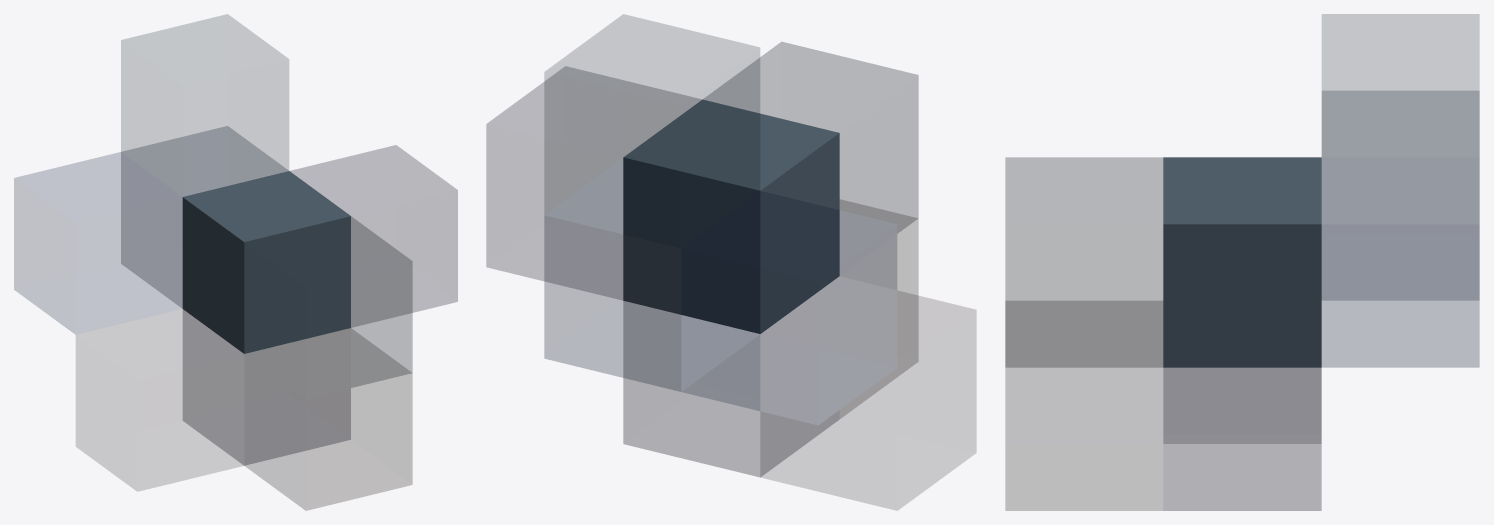
The model's file is iter_15.obj.
The picture shows the model from 3 angles, left to right: view 1: azimuth 30°, elevation 25°; view 2: azimuth 150°, elevation 25°; view 3: azimuth 270°, elevation 25°; orthographic projection. The views are drawn at different scales.
Parts seen in each view (by area): view 1: iter_15; view 2: iter_15; view 3: iter_15.
Boxes of the visible parts, x1,y1,x2,y2 form: iter_15: (14,14,457,510); iter_15: (486,14,975,510); iter_15: (1005,14,1479,510).
Bounding box in the file's own units: 0.3 × 0.3 × 0.3.
